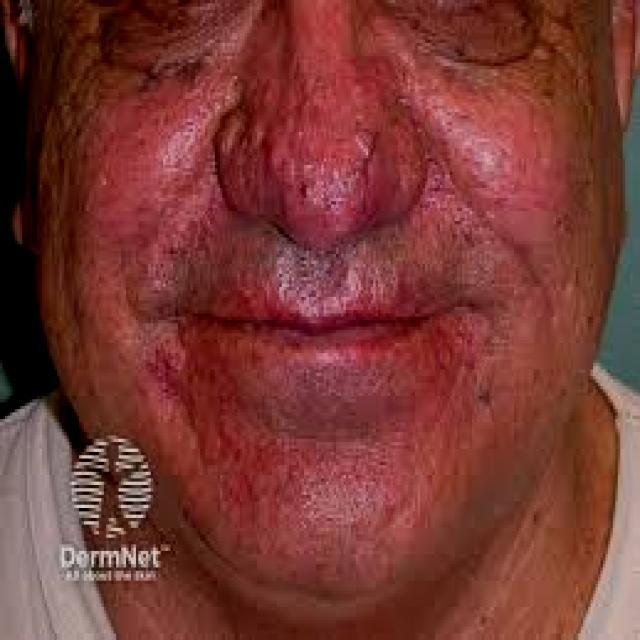Rosacea: (146, 353, 478, 528), (232, 49, 412, 231), (72, 68, 238, 256), (417, 70, 573, 218)
